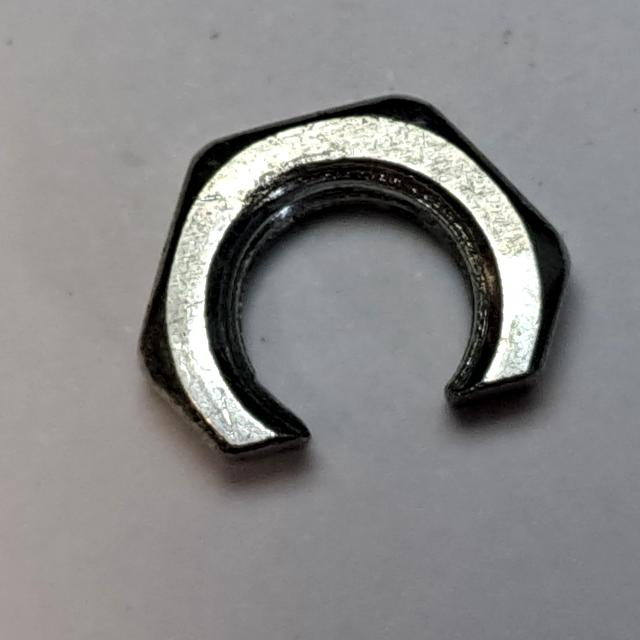Fracture: (124, 85, 594, 486)
